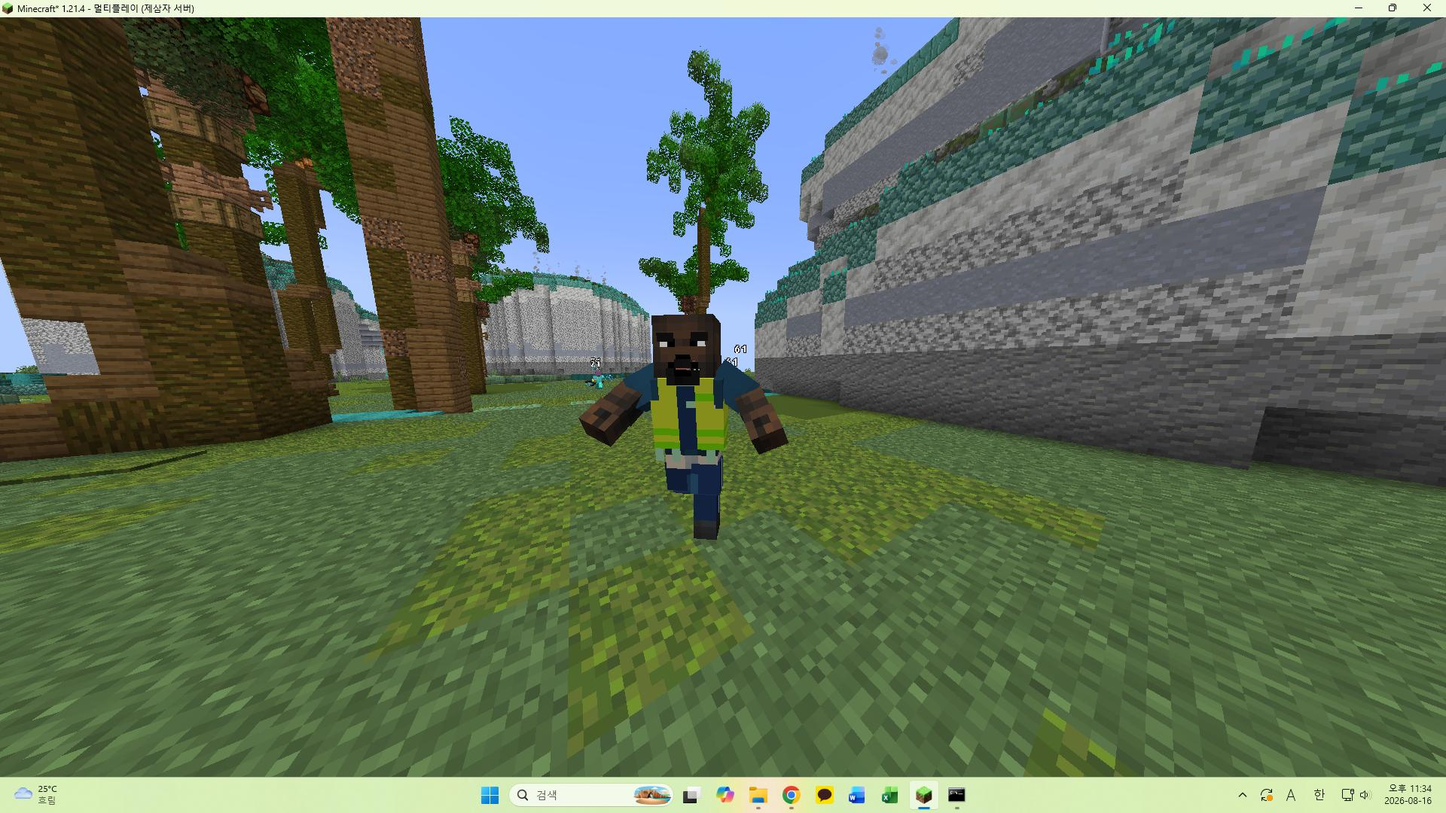Guardian: (581, 312, 787, 539)
